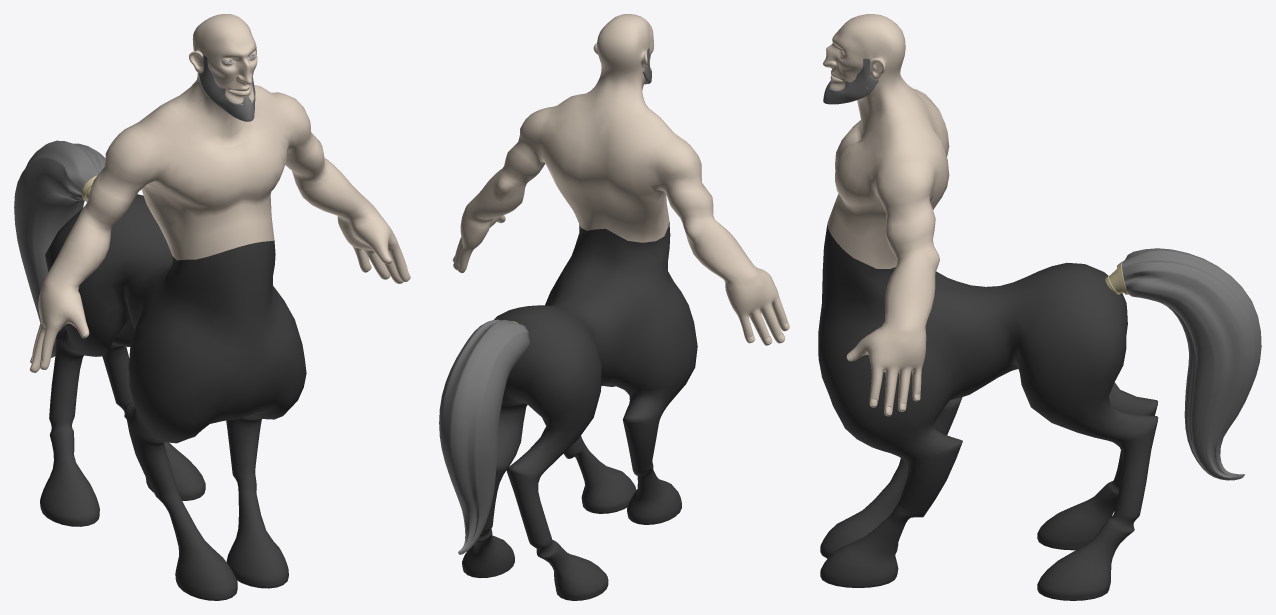
File: cent.fbx
The picture shows the model from 3 angles, left to right: view 1: azimuth 30°, elevation 25°; view 2: azimuth 150°, elevation 25°; view 3: azimuth 270°, elevation 25°; orthographic projection. The views are drawn at different scales.
Parts seen in each view (by area): view 1: centaur; view 2: centaur; view 3: centaur.
Part boxes in pixels (box(x1,y1,x2,y2)): centaur: box(14, 14, 410, 600); centaur: box(439, 14, 789, 600); centaur: box(818, 14, 1261, 600).
Size of the model in its own units: 22.8 by 32.35 by 23.74.
